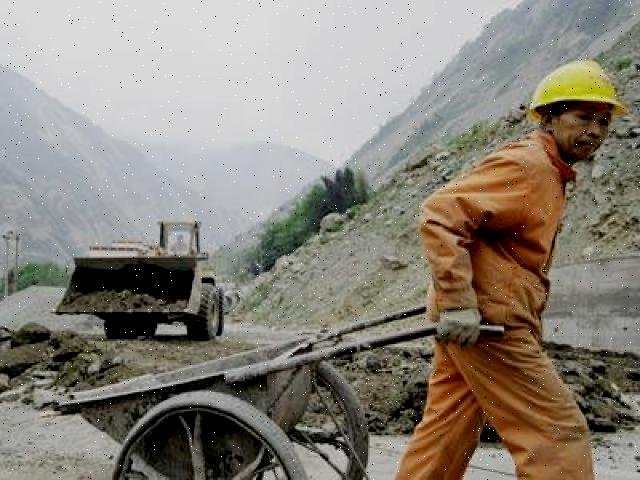Helmet: (524, 52, 630, 122)
